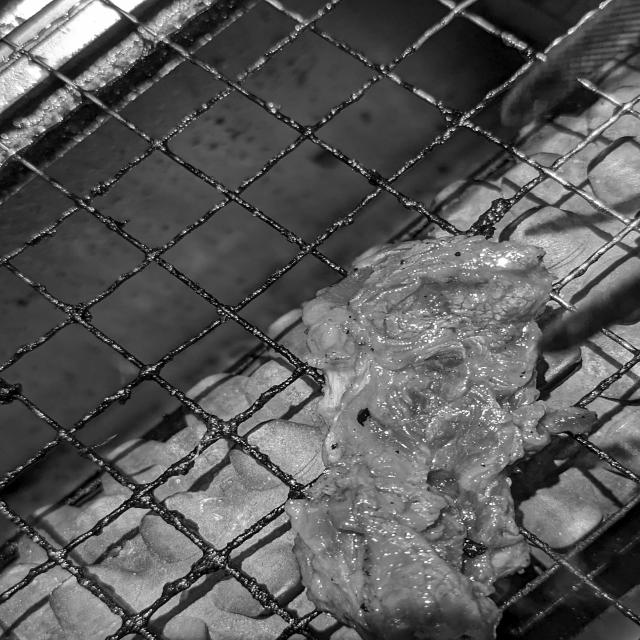NG undercooked beef,: (272, 231, 621, 640)
